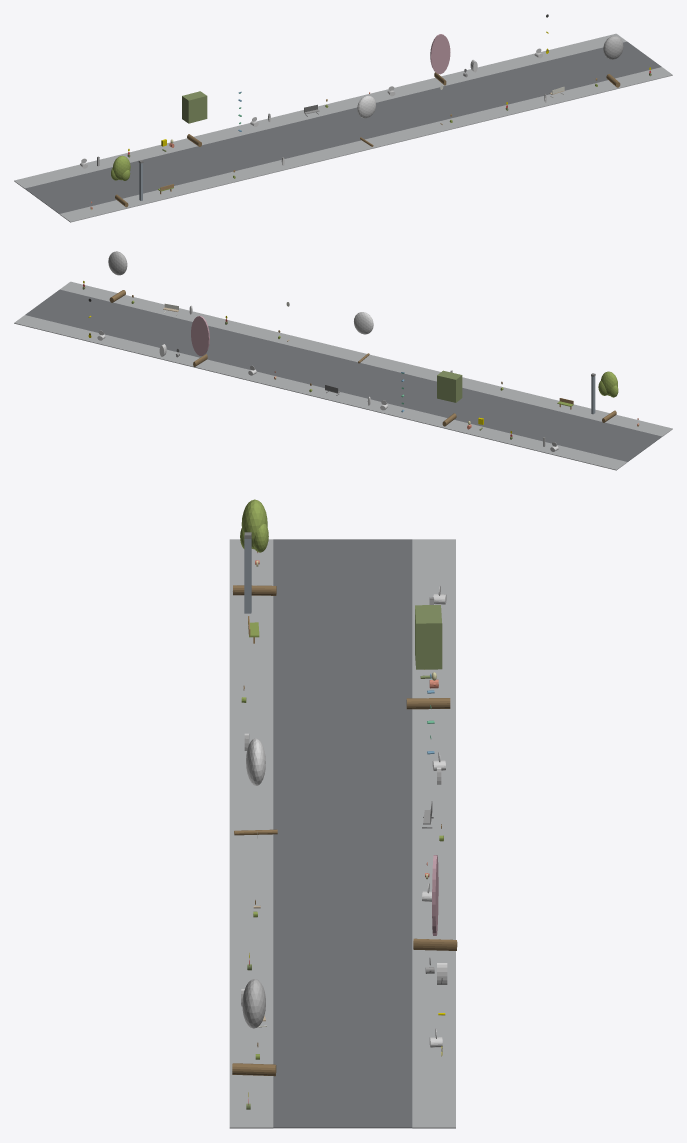
3 renders of one model, top to bottom at view 1: azimuth 30°, elevation 25°; view 2: azimuth 150°, elevation 25°; view 3: azimuth 270°, elevation 25°, orthographic. The views are drawn at different scales.
Visible parts, largest first — view 1: road_slab, sidewalk_left, sidewalk_right, inst_0013, inst_0015, inst_0012, inst_0016, inst_0014; view 2: road_slab, sidewalk_right, sidewalk_left, inst_0013, inst_0015, inst_0012, inst_0016, inst_0014; view 3: road_slab, sidewalk_left, sidewalk_right, inst_0013, inst_0012, inst_0016, inst_0015, inst_0014.
Part boxes in pixels (x1=…): road_slab: x1=25, y1=41, x2=661, y2=213; sidewalk_left: x1=59, y1=67, x2=672, y2=222; sidewalk_right: x1=14, y1=33, x2=626, y2=188; inst_0013: x1=182, y1=91, x2=207, y2=146; inst_0015: x1=430, y1=34, x2=450, y2=85; inst_0012: x1=111, y1=155, x2=130, y2=207; inst_0016: x1=603, y1=36, x2=623, y2=87; inst_0014: x1=357, y1=95, x2=375, y2=146; road_slab: x1=25, y1=289, x2=661, y2=461; sidewalk_right: x1=14, y1=315, x2=627, y2=470; sidewalk_left: x1=60, y1=281, x2=672, y2=436; inst_0013: x1=437, y1=370, x2=462, y2=426; inst_0015: x1=191, y1=316, x2=209, y2=366; inst_0012: x1=598, y1=371, x2=618, y2=422; inst_0016: x1=108, y1=251, x2=127, y2=302; inst_0014: x1=354, y1=312, x2=373, y2=363; road_slab: x1=273, y1=539, x2=412, y2=1128; sidewalk_left: x1=229, y1=539, x2=273, y2=1128; sidewalk_right: x1=412, y1=539, x2=455, y2=1128; inst_0013: x1=406, y1=605, x2=450, y2=709; inst_0012: x1=233, y1=499, x2=276, y2=595; inst_0016: x1=232, y1=979, x2=276, y2=1076; inst_0015: x1=413, y1=855, x2=457, y2=950; inst_0014: x1=234, y1=738, x2=277, y2=835.
Size of the model in its own units: 80 by 6.08 by 13.07.
